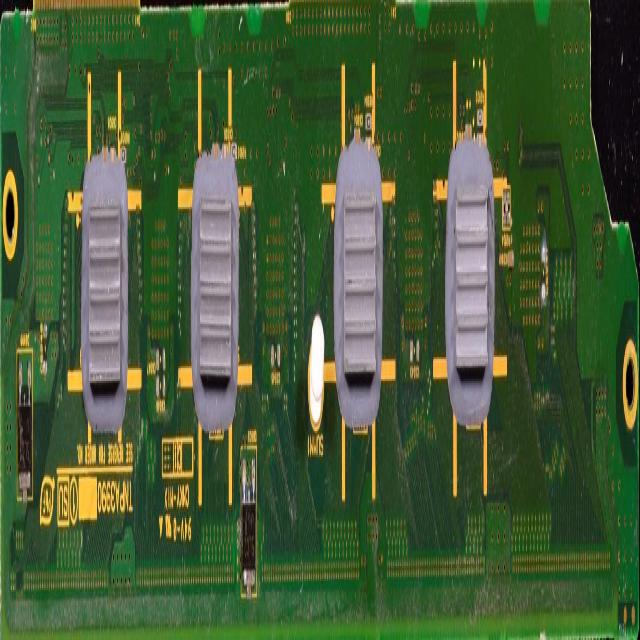Capacitor: (407, 309, 425, 386), (538, 237, 550, 326), (39, 307, 49, 385), (268, 338, 282, 388), (153, 367, 166, 412), (154, 336, 167, 372), (462, 111, 474, 148), (504, 244, 516, 270), (221, 134, 229, 168), (352, 122, 362, 146), (109, 138, 117, 164)
Resistor Network: (500, 170, 514, 231), (364, 98, 376, 133), (120, 134, 128, 168), (230, 135, 238, 168), (475, 98, 484, 126)
